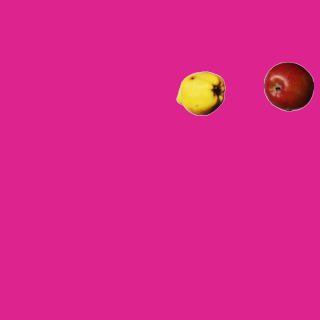Apple Braeburn: (263, 61, 313, 111)
Quince: (175, 68, 225, 118)
